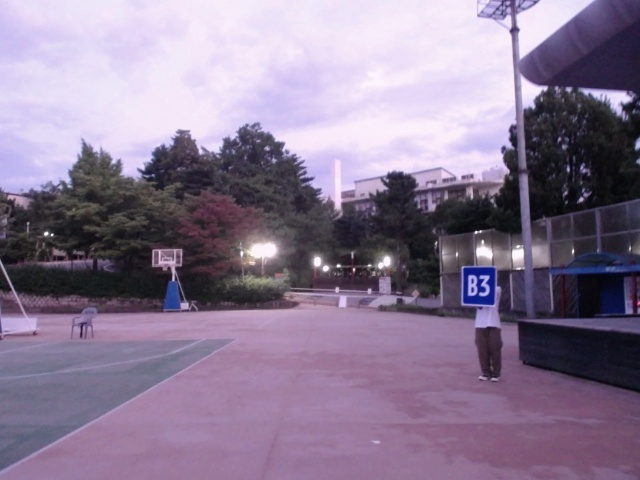delivery_b3: (461, 265, 498, 308)
